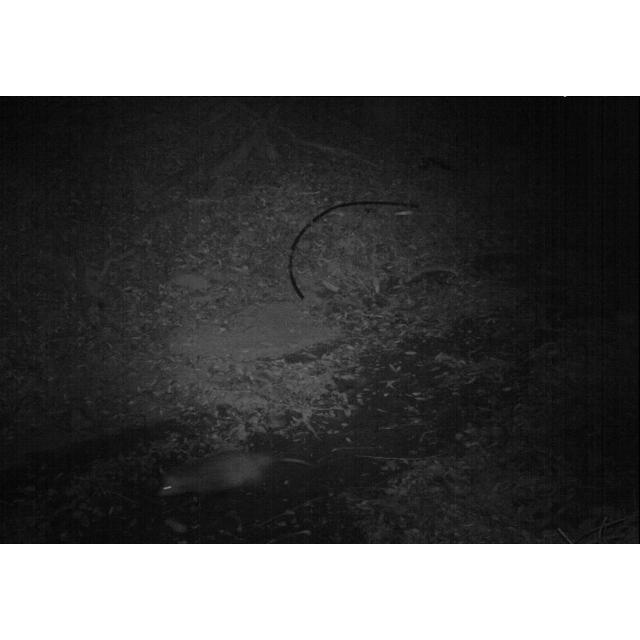animals: (154, 444, 318, 510)
